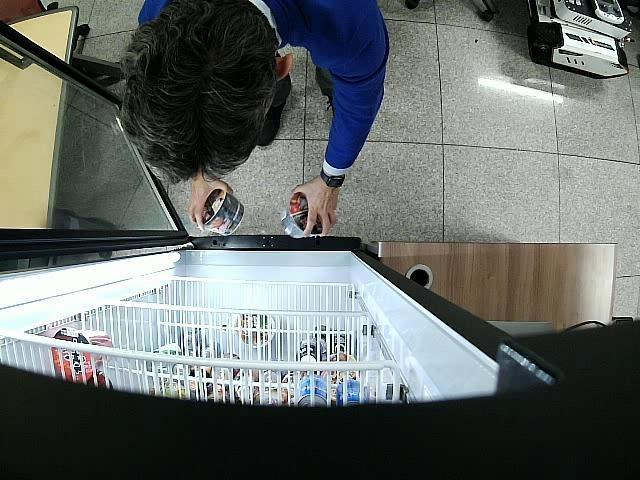07_buldak_L: (203, 188, 245, 236), (281, 191, 322, 237)
